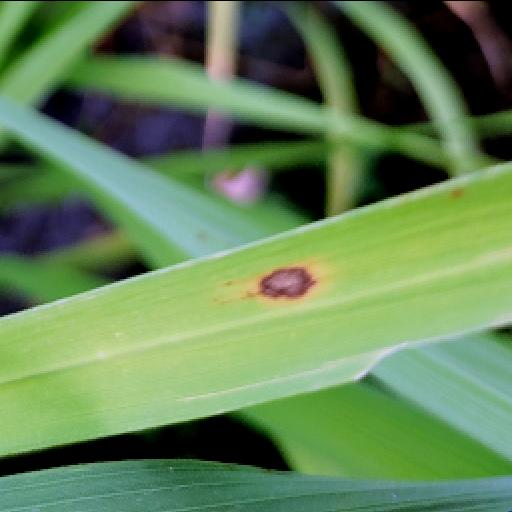Brown Spot: (248, 252, 318, 308)
